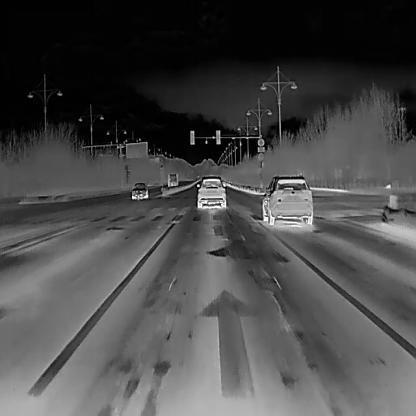car: (261, 173, 312, 226), (196, 175, 226, 210), (130, 181, 148, 200), (167, 172, 177, 188)
